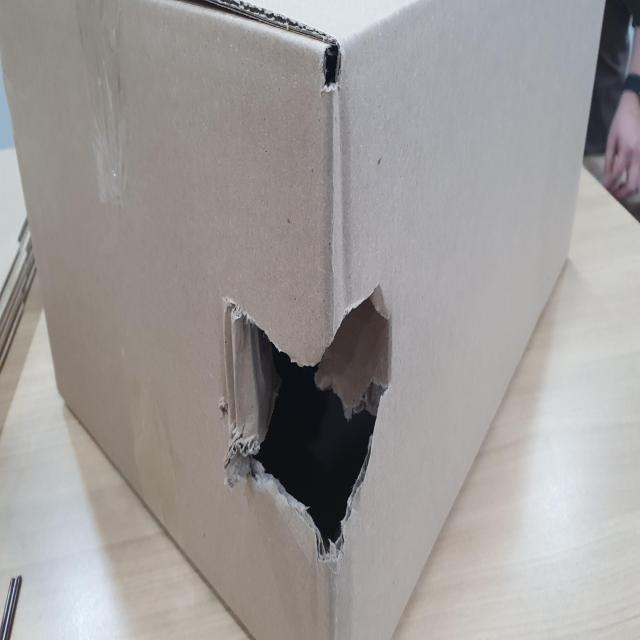damaged: (224, 279, 398, 564)
